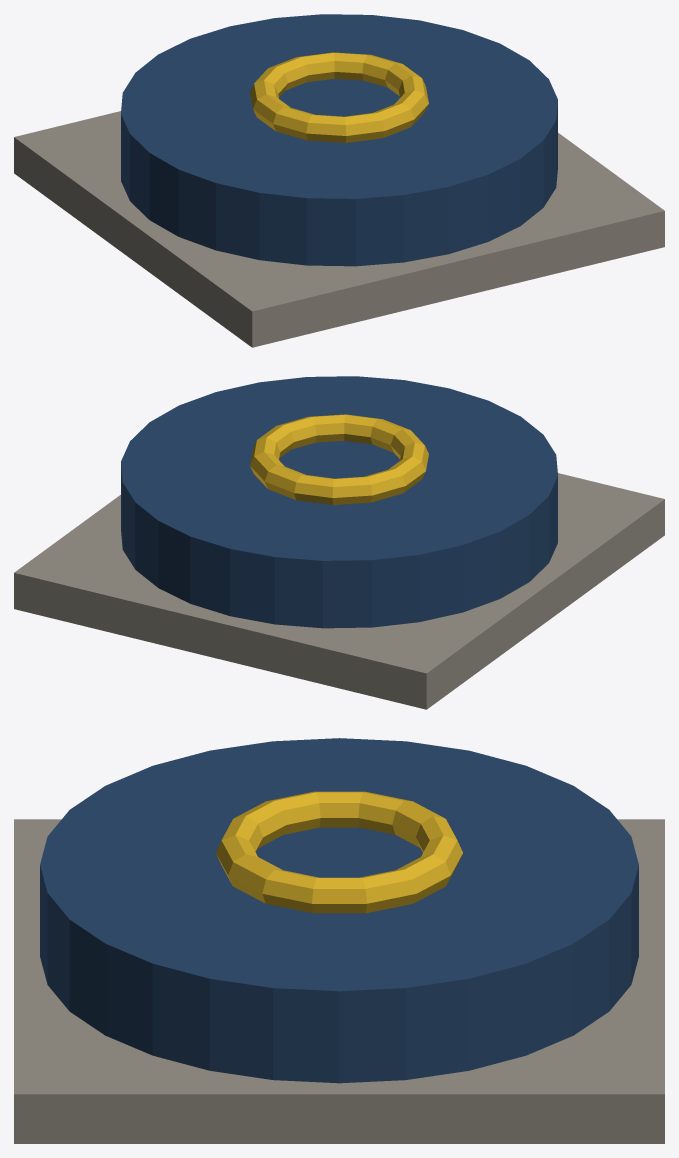
Rendered from submarine_hatch.obj.
The picture shows the model from 3 angles, top to bottom: view 1: azimuth 30°, elevation 25°; view 2: azimuth 150°, elevation 25°; view 3: azimuth 270°, elevation 25°; orthographic projection. The views are drawn at different scales.
Visible parts, largest first — view 1: submarine_hatch; view 2: submarine_hatch; view 3: submarine_hatch.
Boxes of the visible parts, x1,y1,x2,y2 form: submarine_hatch: (14, 14, 664, 347); submarine_hatch: (14, 376, 664, 709); submarine_hatch: (14, 738, 664, 1143).
Size of the model in its own units: 1 by 0.29 by 1.
